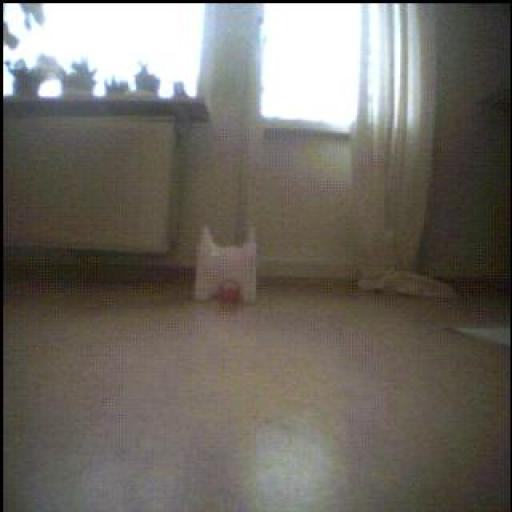Basket: (217, 281, 243, 305)
